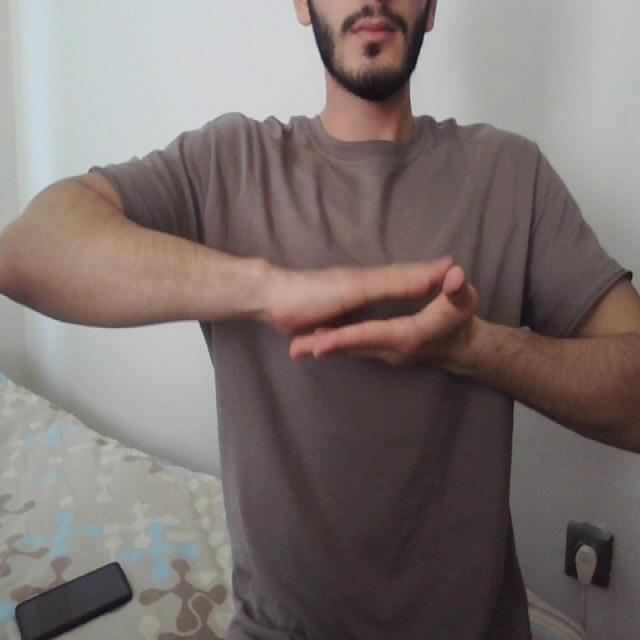Arkadas: (136, 212, 638, 396)
